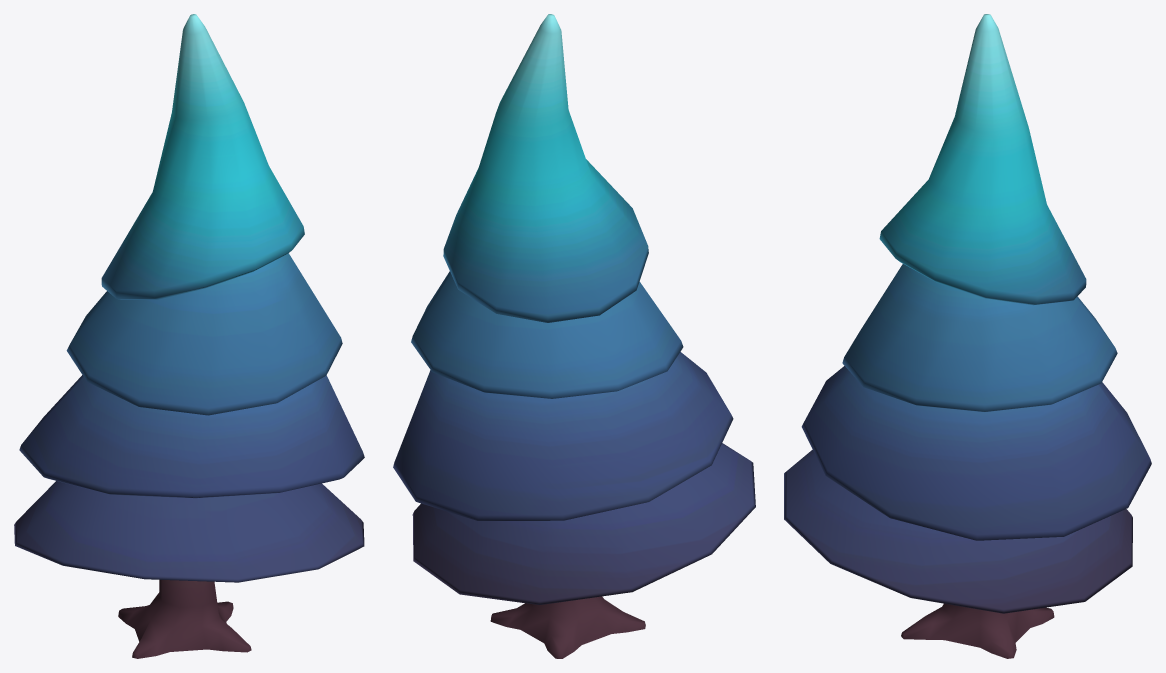
Rendered from Tree_17.fbx.
3 views of the same model, side by side, from view 1: azimuth 30°, elevation 25°; view 2: azimuth 150°, elevation 25°; view 3: azimuth 270°, elevation 25° (orthographic).
Parts seen in each view (by area): view 1: Tree_17; view 2: Tree_17; view 3: Tree_17.
Part boxes in pixels (x1,y1,x2,y2): Tree_17: (14, 14, 364, 658); Tree_17: (393, 14, 755, 658); Tree_17: (784, 14, 1151, 658).
Bounding box in the file's own units: 205 × 386 × 207.
